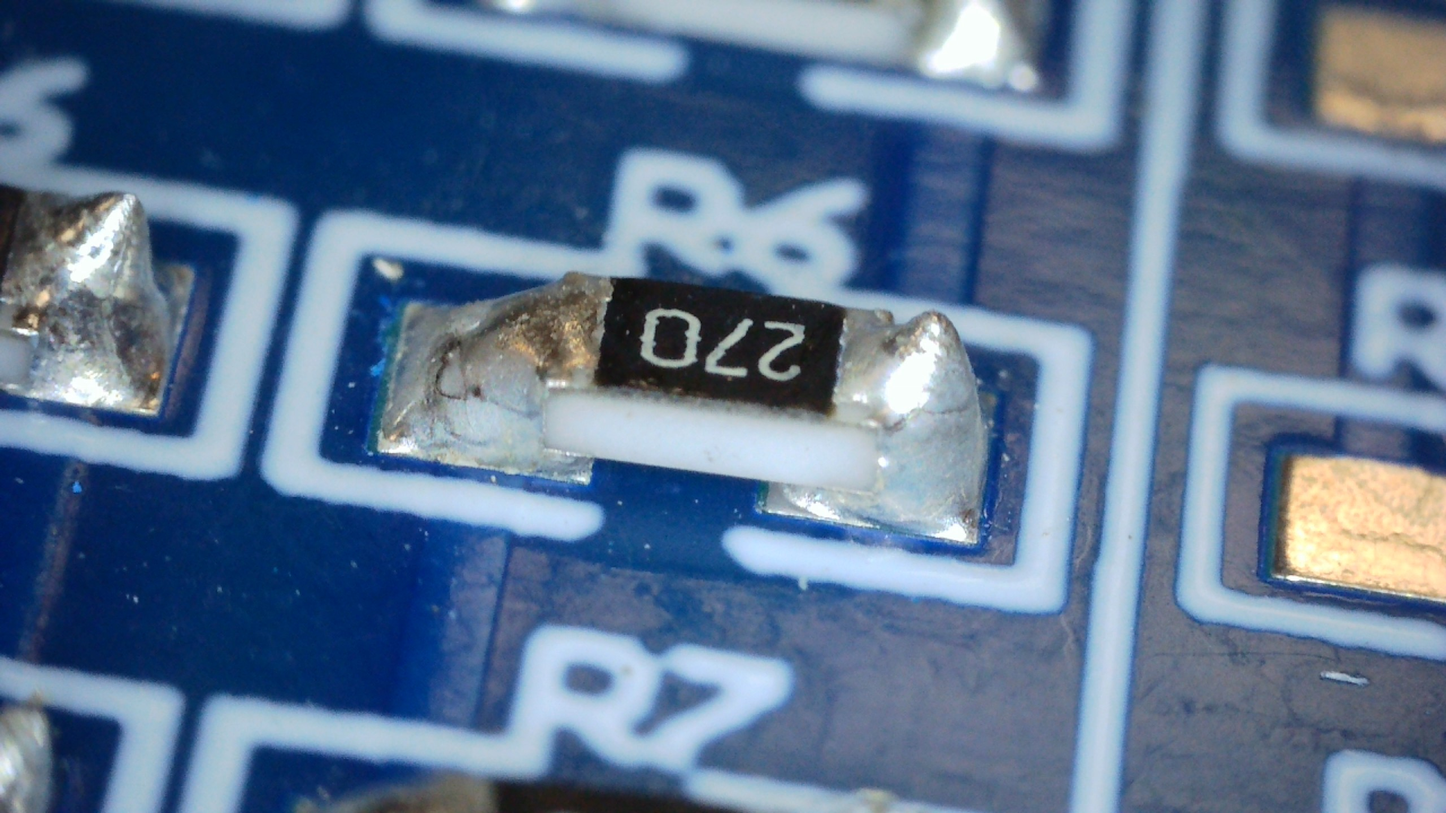NG: (385, 271, 608, 468), (840, 313, 988, 529)
